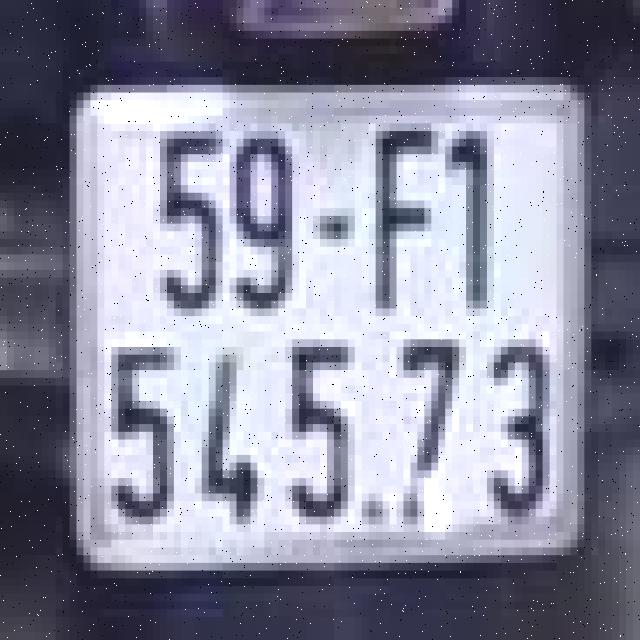1: (449, 112, 518, 312)
3: (480, 335, 563, 536)
4: (191, 339, 275, 532)
5: (83, 328, 181, 544), (136, 112, 226, 320), (275, 328, 365, 536)
7: (379, 320, 470, 536)
9: (216, 120, 313, 320)
F: (351, 97, 428, 336)
